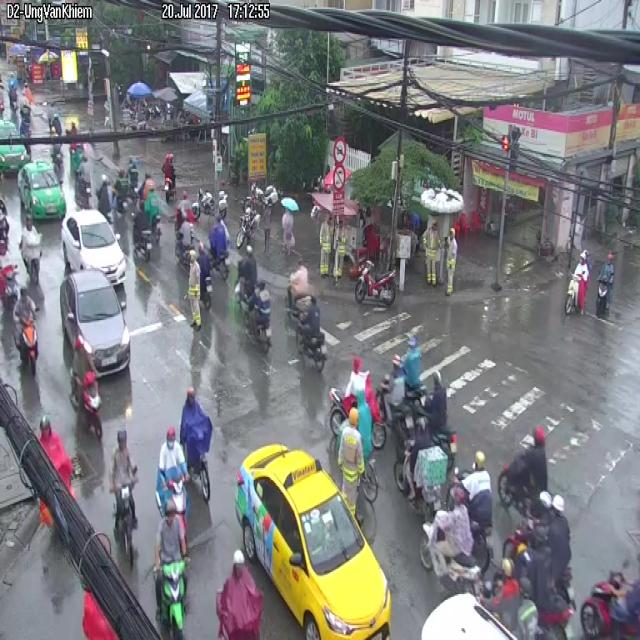car: (423, 486, 480, 588), (155, 493, 187, 639), (110, 430, 138, 564), (155, 428, 188, 517), (180, 387, 212, 467), (355, 259, 398, 307)
traffic-light: (235, 444, 391, 639), (61, 270, 129, 376), (62, 209, 126, 289), (18, 161, 65, 221)
